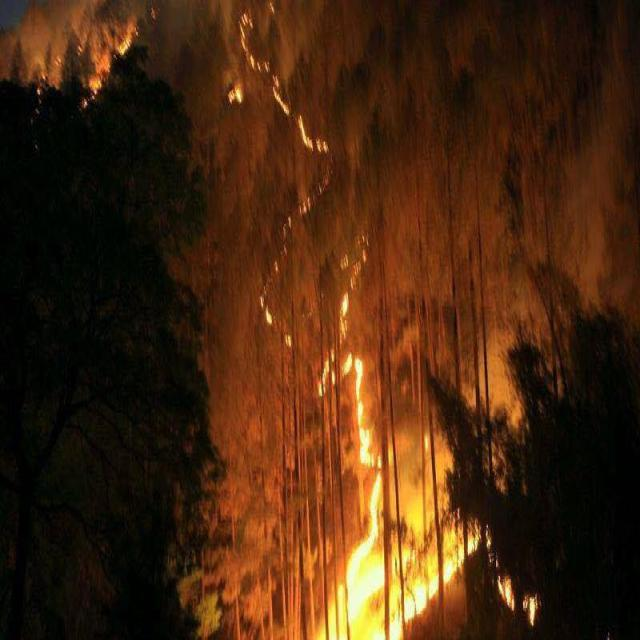Fire: (340, 365, 474, 625)
